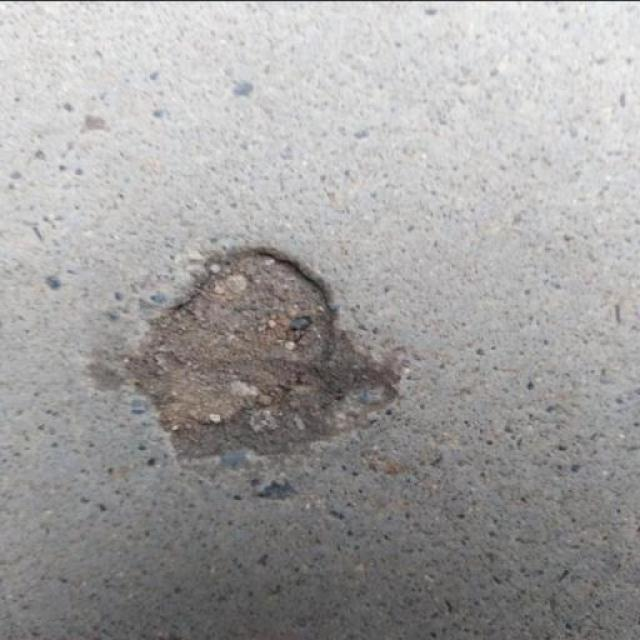D10: (90, 246, 398, 459)
